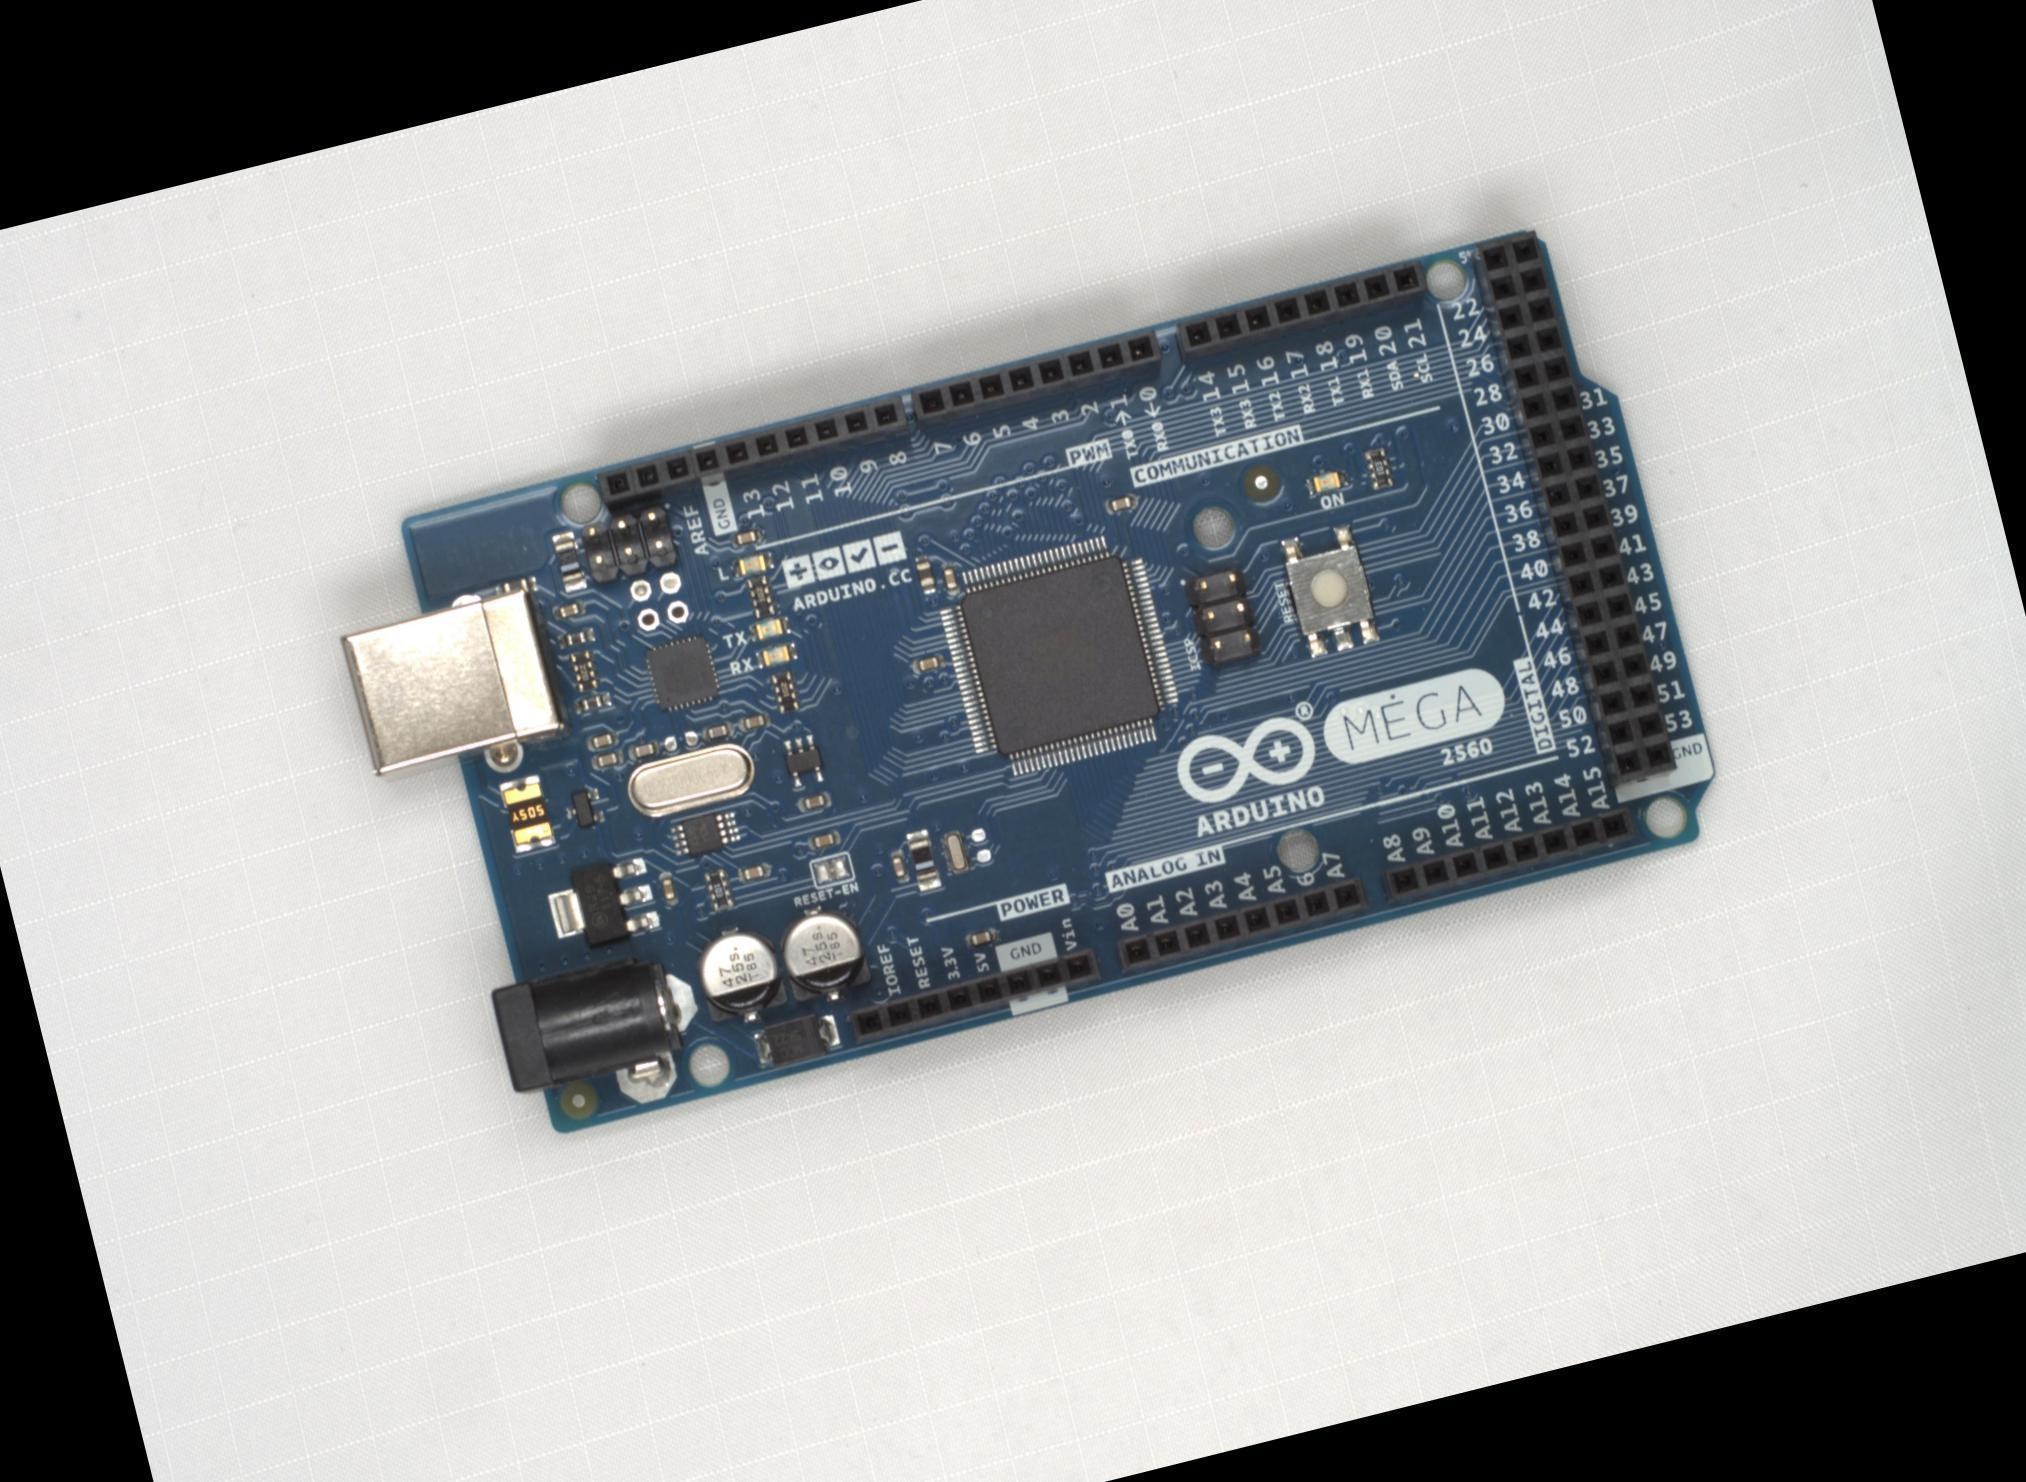Button: (1278, 520, 1384, 661)
Capacitor: (494, 575, 539, 600), (1104, 489, 1142, 519), (962, 926, 1000, 952), (656, 869, 679, 908), (550, 597, 587, 622), (585, 729, 621, 753), (589, 748, 624, 773), (806, 828, 842, 852), (699, 720, 736, 744), (794, 790, 832, 814), (735, 860, 772, 884), (625, 739, 660, 763), (729, 527, 764, 550), (910, 651, 946, 675), (737, 711, 772, 735), (888, 847, 909, 884), (939, 560, 961, 595)
Connector: (1468, 234, 1676, 789), (485, 943, 715, 1137), (339, 587, 569, 782), (594, 396, 911, 511), (1170, 265, 1427, 366), (907, 328, 1163, 430), (1378, 808, 1639, 904), (843, 949, 1101, 1045), (1112, 880, 1367, 973), (1181, 564, 1265, 672), (578, 503, 680, 583), (627, 569, 691, 633)
Diode: (905, 828, 941, 894), (550, 529, 587, 595)
Electrolytic Capacitor: (769, 895, 873, 1012), (687, 915, 791, 1031)
IC: (927, 526, 1189, 786), (541, 850, 662, 957), (640, 631, 724, 718), (750, 1008, 845, 1073), (665, 805, 743, 863), (777, 729, 826, 792), (560, 784, 607, 832)
Led: (730, 551, 775, 580), (1305, 468, 1350, 497), (747, 614, 790, 643), (754, 643, 798, 670)
Pads: (807, 849, 857, 891), (967, 822, 994, 867), (659, 727, 701, 752)
Resistor: (744, 574, 777, 621), (1362, 445, 1395, 492), (771, 669, 800, 716), (567, 648, 598, 693), (703, 868, 735, 913), (555, 626, 595, 650), (914, 554, 935, 596), (572, 692, 611, 715)
